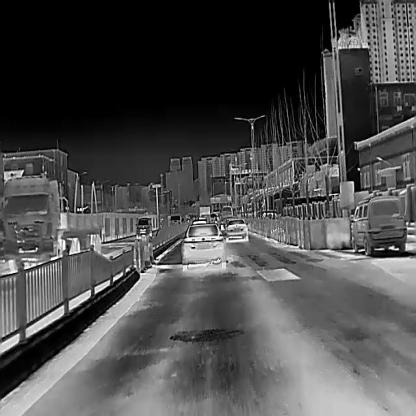car: (350, 195, 406, 253), (180, 223, 226, 268), (226, 218, 248, 240), (136, 216, 152, 237), (220, 205, 233, 216), (170, 214, 181, 226), (201, 214, 210, 223), (192, 220, 206, 224)
truck: (1, 176, 103, 270), (198, 205, 210, 217)
